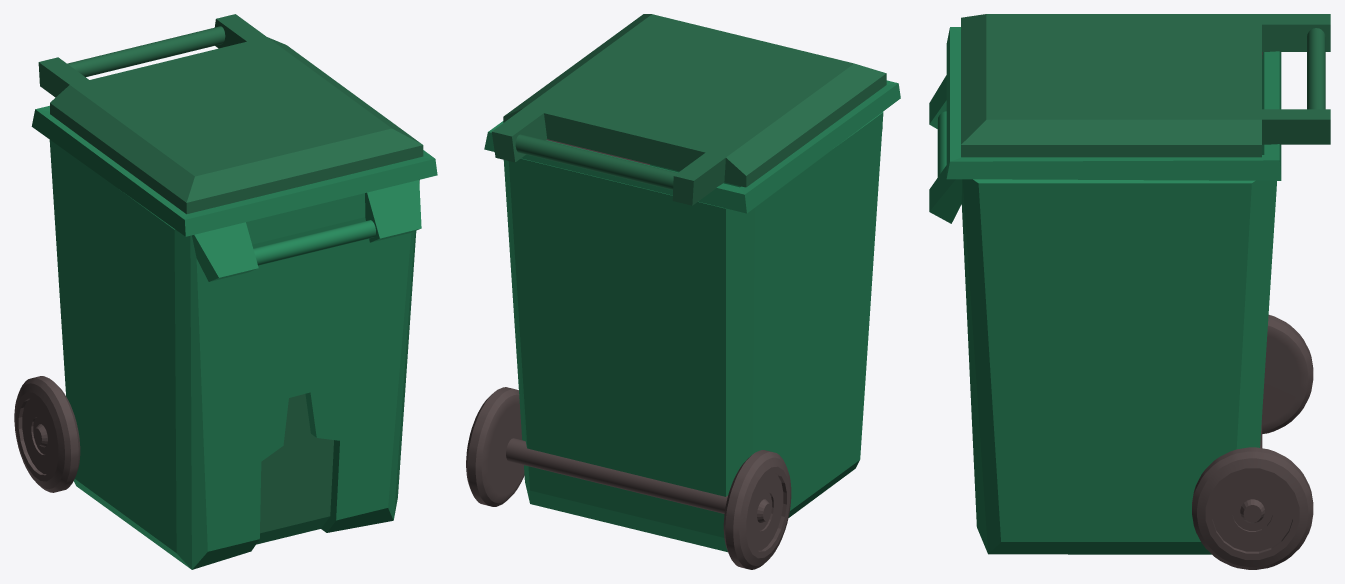
Rendered from Garbage bin 1.fbx.
3 views of the same model, side by side, from view 1: azimuth 30°, elevation 25°; view 2: azimuth 150°, elevation 25°; view 3: azimuth 270°, elevation 25° (orthographic). The views are drawn at different scales.
Parts seen in each view (by area): view 1: body_and_wheels, Lid; view 2: body_and_wheels, Lid; view 3: body_and_wheels, Lid.
Part boxes in pixels (box(x1,y1,x2,y2)): body_and_wheels: box(14, 105, 437, 569); Lid: box(38, 14, 423, 214); body_and_wheels: box(466, 80, 900, 569); Lid: box(491, 14, 886, 205); body_and_wheels: box(929, 27, 1313, 569); Lid: box(961, 14, 1330, 157).
Size of the model in its own units: 77.79 by 108 by 90.47.
